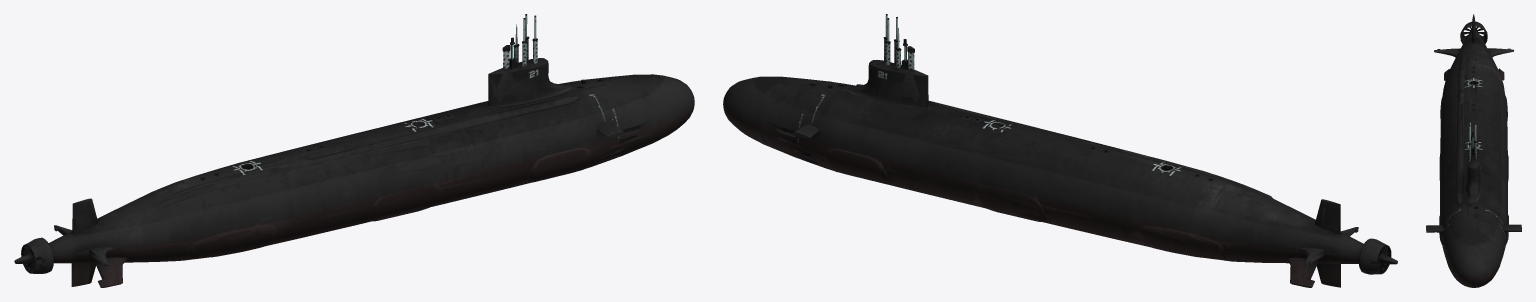
3 renders of one model, left to right at view 1: azimuth 30°, elevation 25°; view 2: azimuth 150°, elevation 25°; view 3: azimuth 270°, elevation 25°, orthographic. The views are drawn at different scales.
Visible parts, largest first — view 1: Object_4, Object_6; view 2: Object_4, Object_6; view 3: Object_4, Object_6.
Part boxes in pixels (x1,y1,x2,y2): Object_4: (14, 14, 694, 287); Object_6: (15, 58, 694, 287); Object_4: (723, 14, 1397, 287); Object_6: (723, 60, 1397, 287); Object_4: (1426, 14, 1521, 287); Object_6: (1426, 18, 1521, 287).
Bounding box in the file's own units: 15.39 × 3.55 × 2.49.
Materials: 1 (1 with a texture image).
